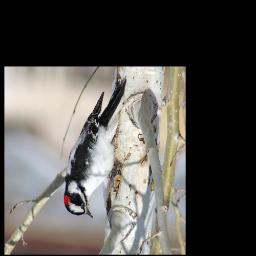Woodpecker: (65, 75, 128, 220)
